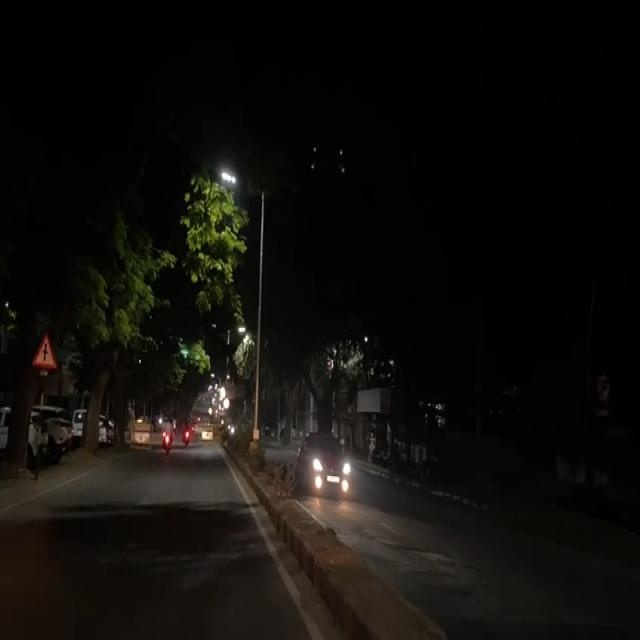bien_nguy_hiem: (31, 331, 58, 372)
